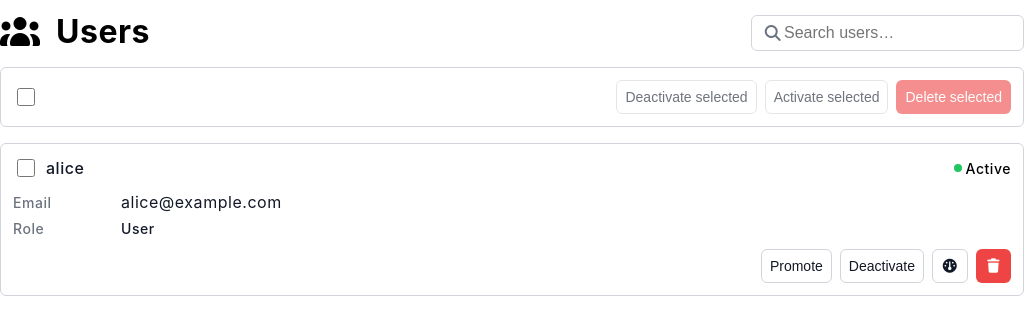
UsersView › searches users with a debounced query
The image size is (1036, 313).
Type "bob" into the search field with placeholder "Search users…".
click(888, 33); type("bob")  # box [751, 15, 1024, 51]
Wait 300 ms
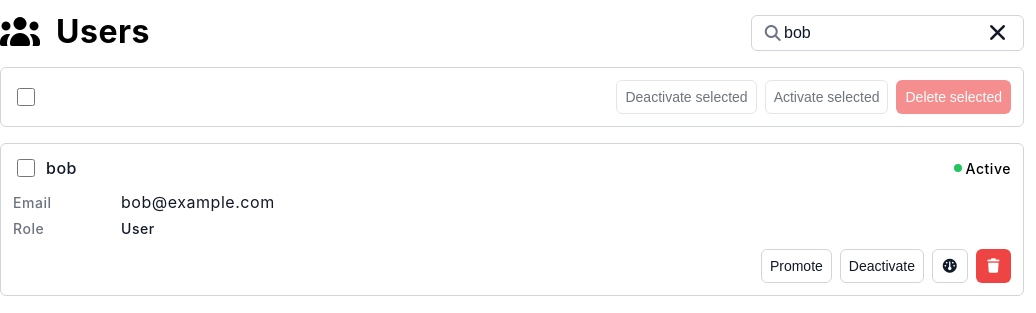
Now the text "bob" is shown, box [46, 158, 77, 178]
